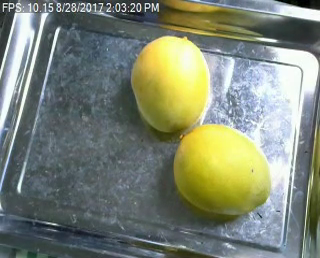Mango: (168, 129, 272, 216), (126, 31, 212, 130)
